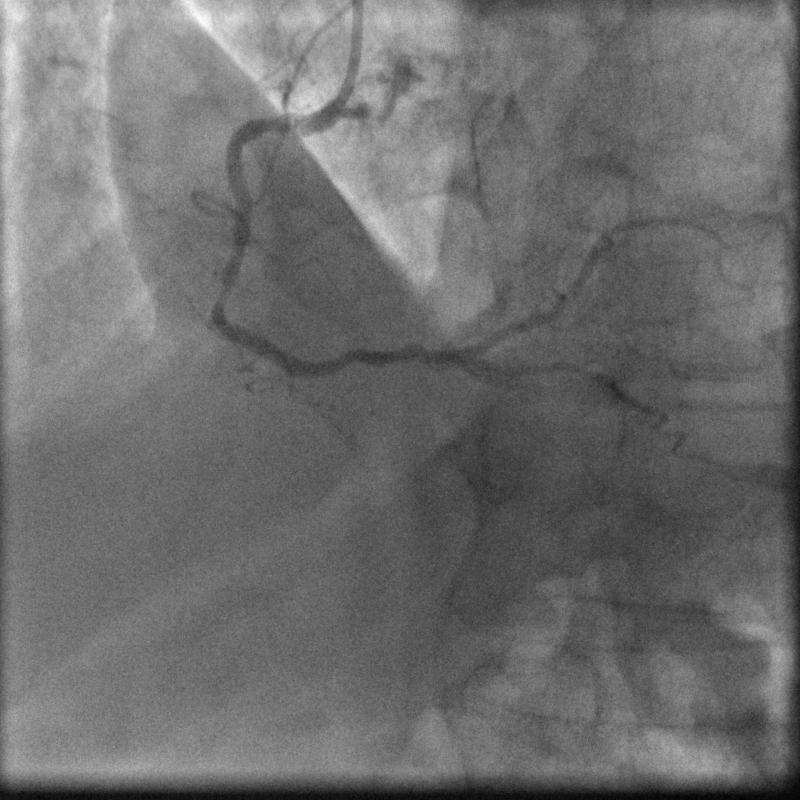Stenosis: (210, 280, 230, 309)
